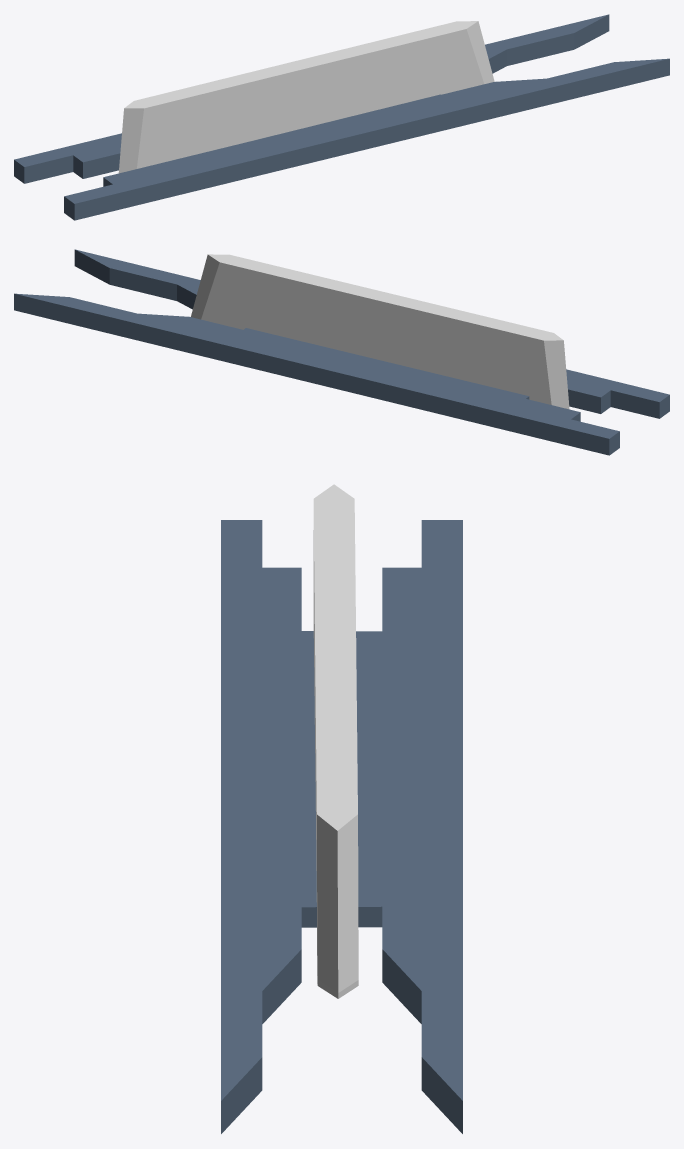
3 views of the same model, one above another, from view 1: azimuth 30°, elevation 25°; view 2: azimuth 150°, elevation 25°; view 3: azimuth 270°, elevation 25° (orthographic). The views are drawn at different scales.
Parts seen in each view (by area): view 1: 立方体.033; view 2: 立方体.033; view 3: 立方体.033.
Part boxes in pixels (x1,y1,x2,y2): 立方体.033: (14,14,669,220); 立方体.033: (14,249,669,455); 立方体.033: (221,484,462,1133).
Bounding box in the file's own units: 3.17 × 0.3828 × 0.5587.
